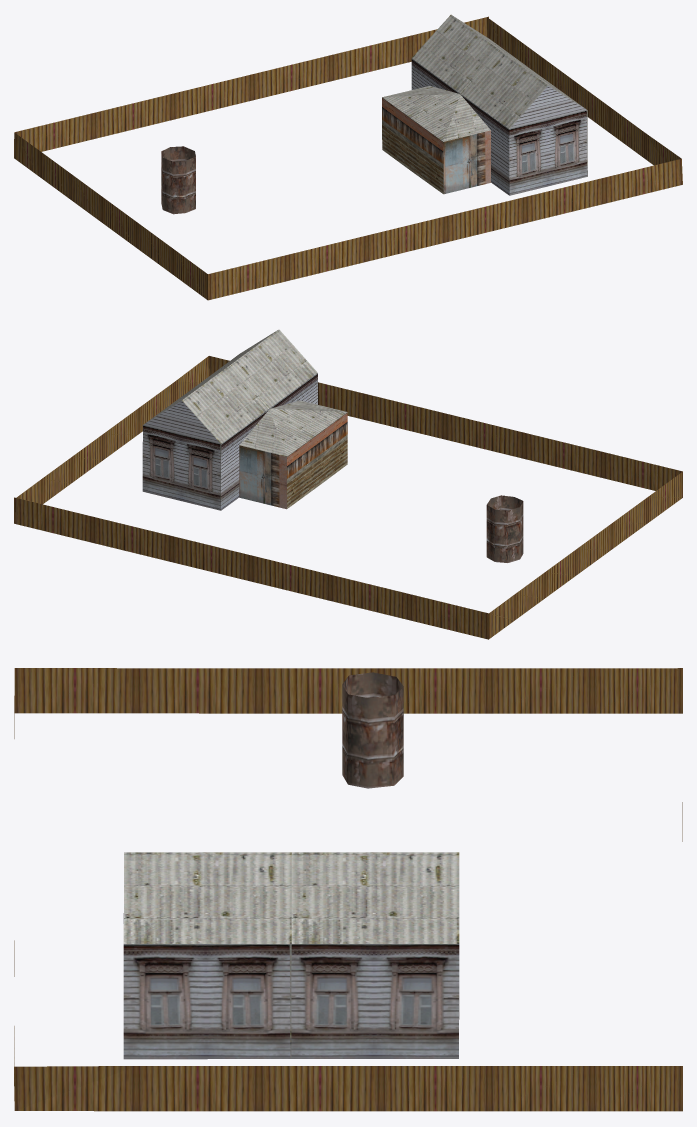
File: houseBackground.FBX
The picture shows the model from 3 angles, top to bottom: view 1: azimuth 30°, elevation 25°; view 2: azimuth 150°, elevation 25°; view 3: azimuth 270°, elevation 25°; orthographic projection. The views are drawn at different scales.
Visible parts, largest first — view 1: house011; view 2: house011; view 3: house011.
Boxes of the visible parts, box(x1,y1,x2,y2) form: house011: box(14, 14, 682, 300); house011: box(14, 329, 682, 639); house011: box(14, 668, 682, 1111).
Bounding box in the file's own units: 3540 × 718 × 2504.
